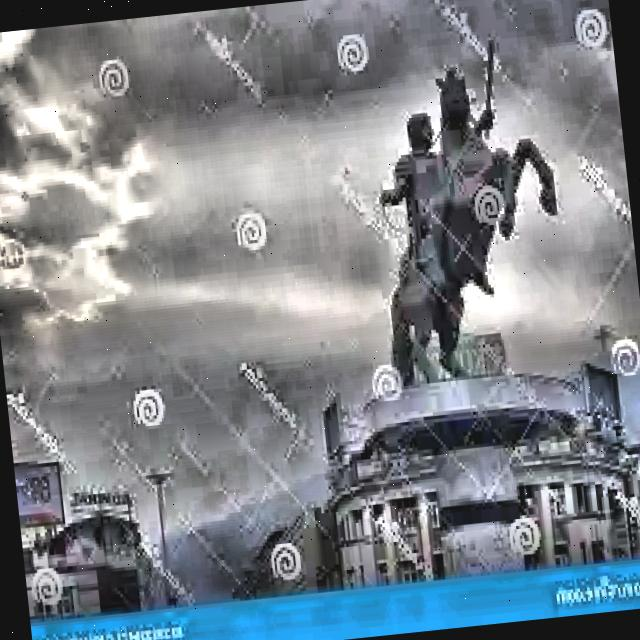alexander the great monument: (314, 9, 602, 610)
